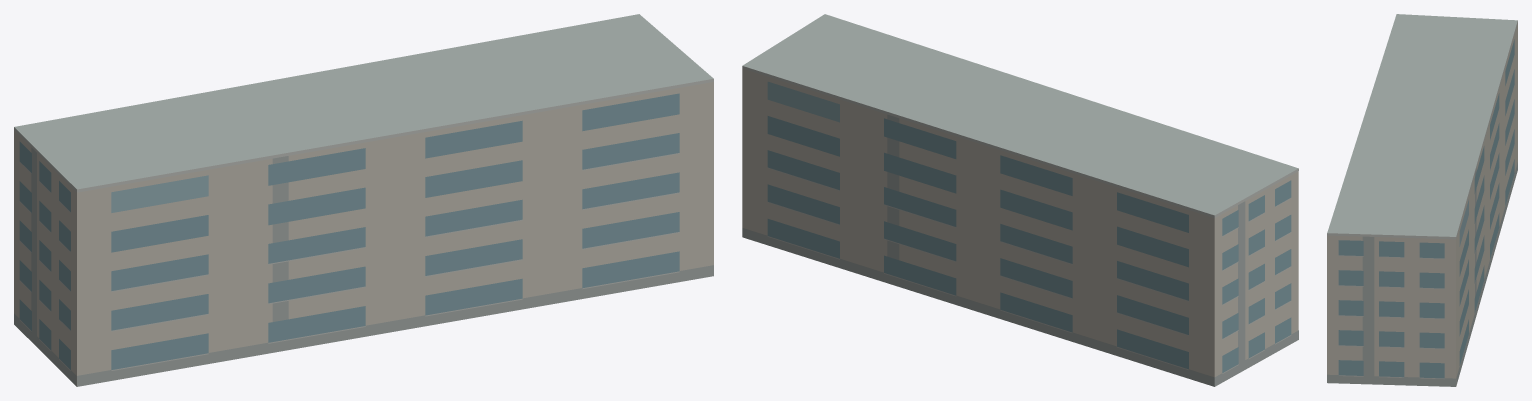
File: residential-b28c4f93-ecec-4f2f-8a77-e243e88d4d81.glb
The picture shows the model from 3 angles, left to right: view 1: azimuth 30°, elevation 25°; view 2: azimuth 150°, elevation 25°; view 3: azimuth 270°, elevation 25°; orthographic projection. The views are drawn at different scales.
Visible parts, largest first — view 1: residential-b28c4f93-ecec-4f2f-8a77-e243e88d4d81.tmp; view 2: residential-b28c4f93-ecec-4f2f-8a77-e243e88d4d81.tmp; view 3: residential-b28c4f93-ecec-4f2f-8a77-e243e88d4d81.tmp.
Boxes of the visible parts, x1,y1,x2,y2 form: residential-b28c4f93-ecec-4f2f-8a77-e243e88d4d81.tmp: (14, 14, 713, 386); residential-b28c4f93-ecec-4f2f-8a77-e243e88d4d81.tmp: (742, 14, 1298, 386); residential-b28c4f93-ecec-4f2f-8a77-e243e88d4d81.tmp: (1327, 14, 1517, 386).
Size of the model in its own units: 48.65 by 15.25 by 17.59.
